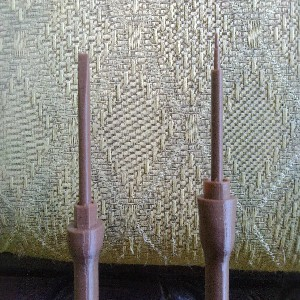obeng: (66, 51, 106, 300)
solder: (196, 26, 238, 300)
